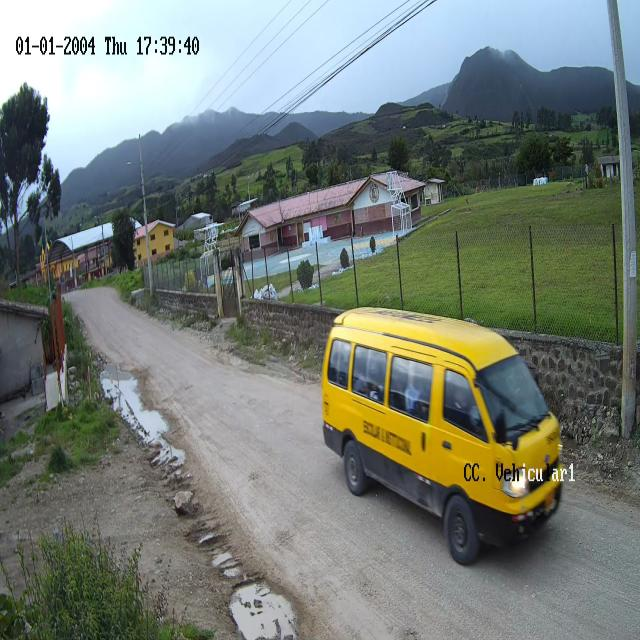BUS: (320, 310, 564, 566)
